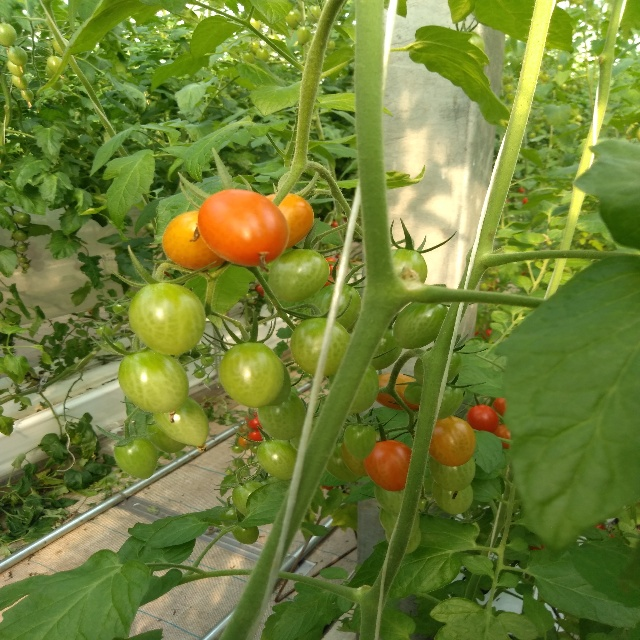l_fully_ripened: (467, 404, 499, 432)
l_green: (127, 282, 206, 356), (118, 347, 188, 414), (218, 342, 283, 409), (291, 316, 352, 376), (266, 248, 330, 302), (153, 395, 208, 448), (328, 359, 379, 415), (393, 302, 448, 349), (309, 284, 362, 330), (257, 390, 305, 440), (413, 345, 462, 386), (114, 435, 158, 480), (256, 438, 297, 480), (428, 457, 474, 492), (145, 416, 187, 453), (370, 327, 404, 371), (326, 441, 361, 482), (432, 481, 473, 514), (391, 248, 427, 284), (343, 422, 376, 460), (379, 507, 420, 537), (231, 479, 262, 516), (265, 364, 292, 406), (384, 528, 422, 554), (438, 383, 464, 420), (341, 441, 368, 476), (375, 484, 404, 514), (222, 505, 247, 531), (231, 520, 258, 544), (404, 381, 424, 405)
l_half_ripened: (197, 188, 290, 267), (162, 210, 226, 270), (265, 192, 315, 251), (365, 439, 412, 492), (428, 416, 475, 467), (375, 373, 420, 411)
